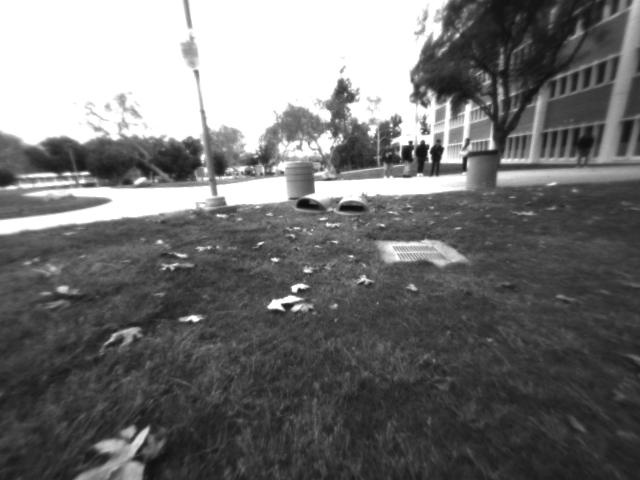trashcan: (462, 144, 502, 195), (280, 156, 321, 200)
